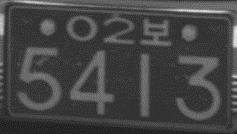0: (65, 14, 98, 42)
1: (125, 53, 165, 118)
2: (102, 16, 136, 44)
3: (175, 53, 222, 120)
4: (69, 48, 114, 115)
5: (16, 46, 63, 112)
보: (140, 18, 172, 46)
